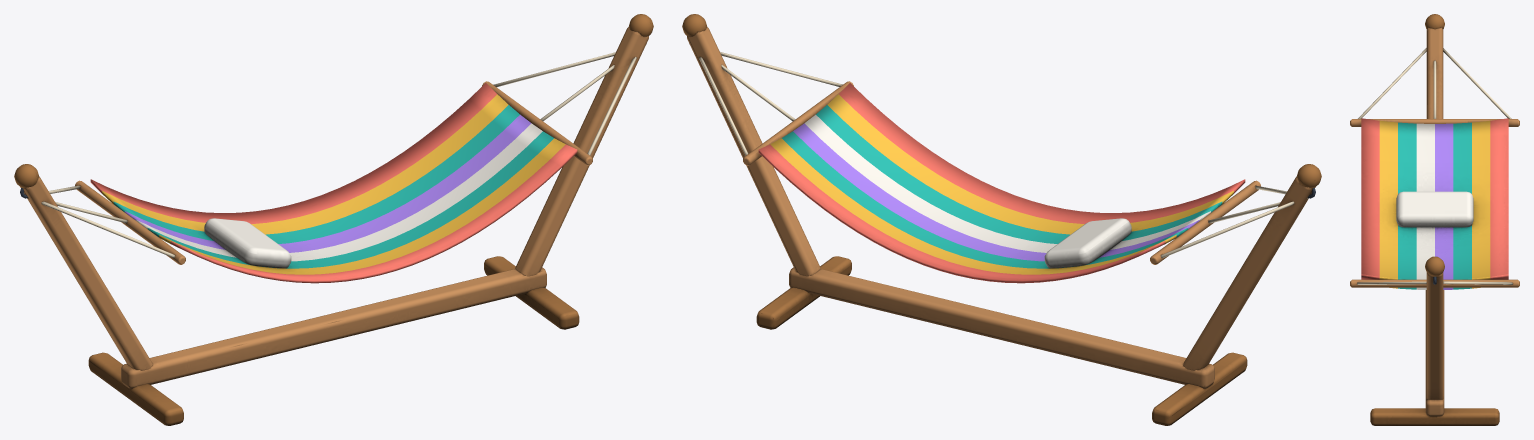
Rendered from hammock.glb.
3 renders of one model, left to right at view 1: azimuth 30°, elevation 25°; view 2: azimuth 150°, elevation 25°; view 3: azimuth 270°, elevation 25°, orthographic. The views are drawn at different scales.
Visible parts, largest first — view 1: Bed, hammock; view 2: Bed, hammock; view 3: Bed, hammock.
Boxes of the visible parts, x1,y1,x2,y2 form: Bed: [27, 52, 636, 283]; hammock: [14, 14, 653, 425]; Bed: [699, 52, 1308, 283]; hammock: [682, 14, 1321, 425]; Bed: [1350, 48, 1519, 289]; hammock: [1370, 14, 1499, 425].
Size of the model in its own units: 3.22 by 1.25 by 0.92.
Materials: 9 (9 with a texture image).
